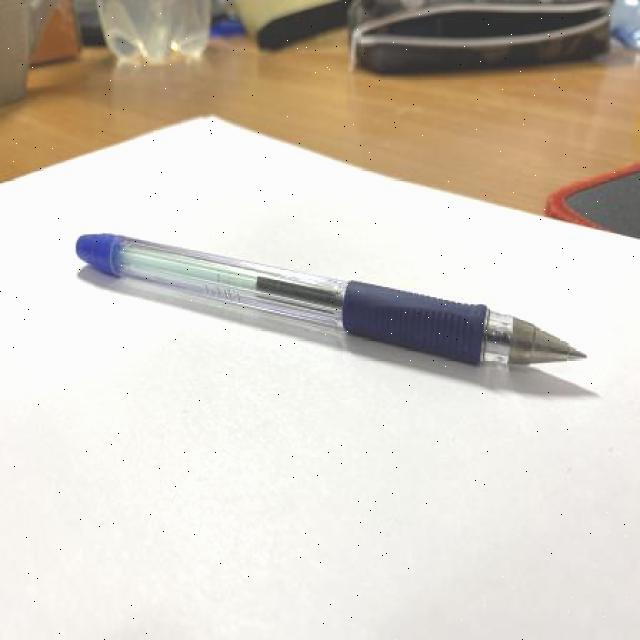pen: (75, 231, 589, 374)
